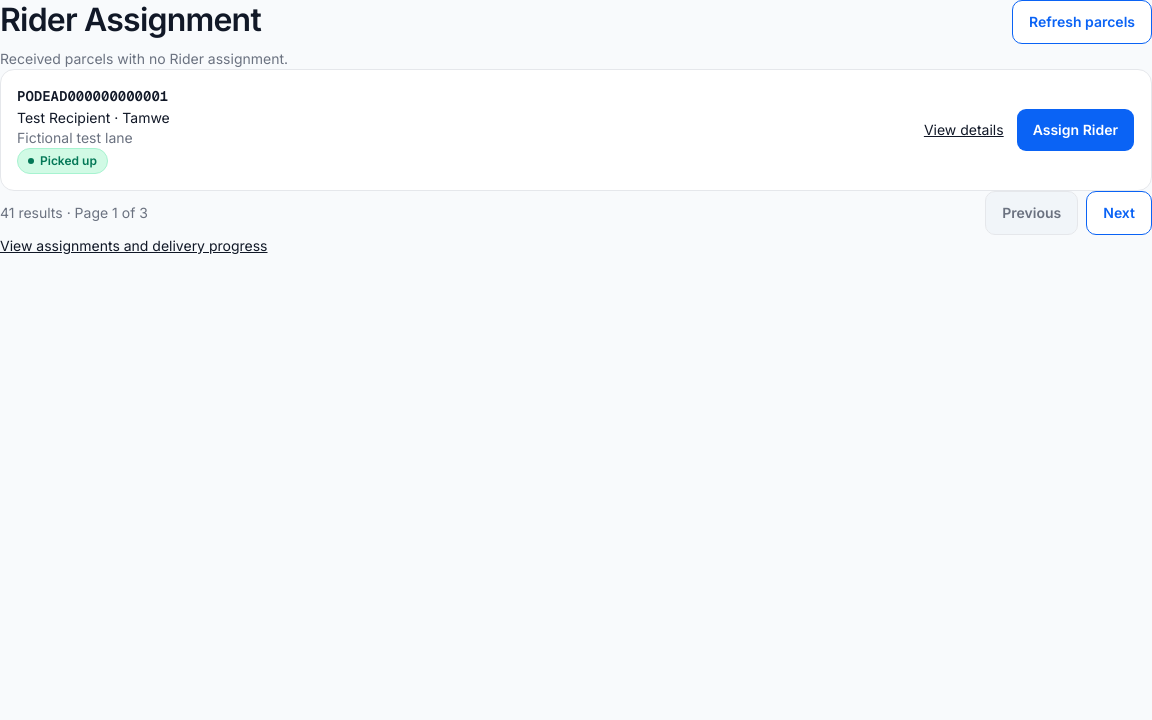
assigns only after choosing a Rider and confirming, leaving status unchanged
Click the button "Assign Rider".
click(1075, 130)  # box [1016, 108, 1135, 152]
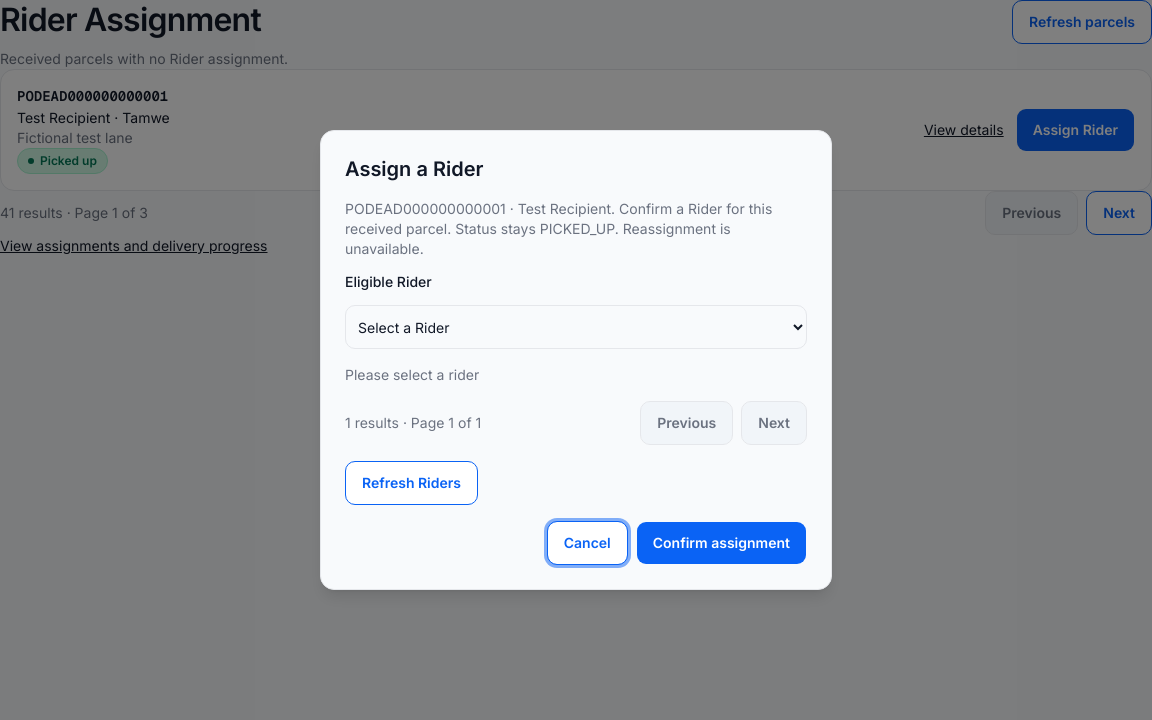
Check: the dropdown labelled "Eligible Rider" is shown
Select "Test Rider · 990e8400-e29b-41d4-a716-446655440000" in the dropdown labelled "Eligible Rider" at (576, 327), box [345, 305, 807, 349]
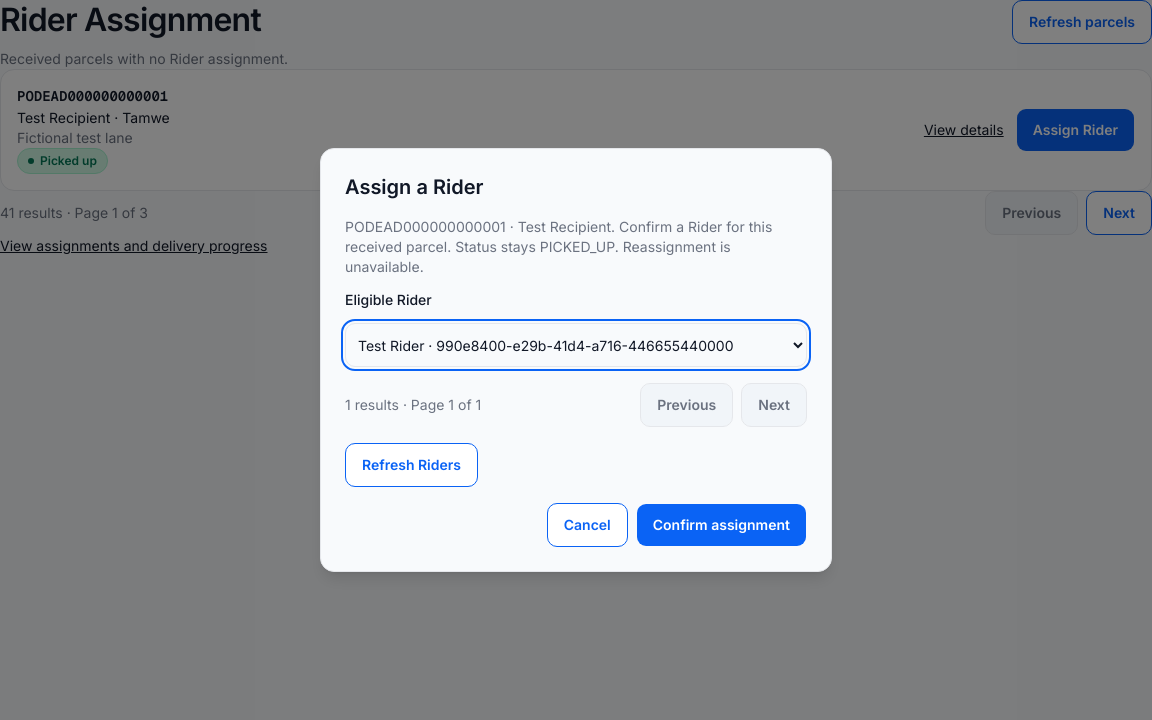
Click the button "Confirm assignment".
click(721, 525)  # box [636, 503, 807, 547]
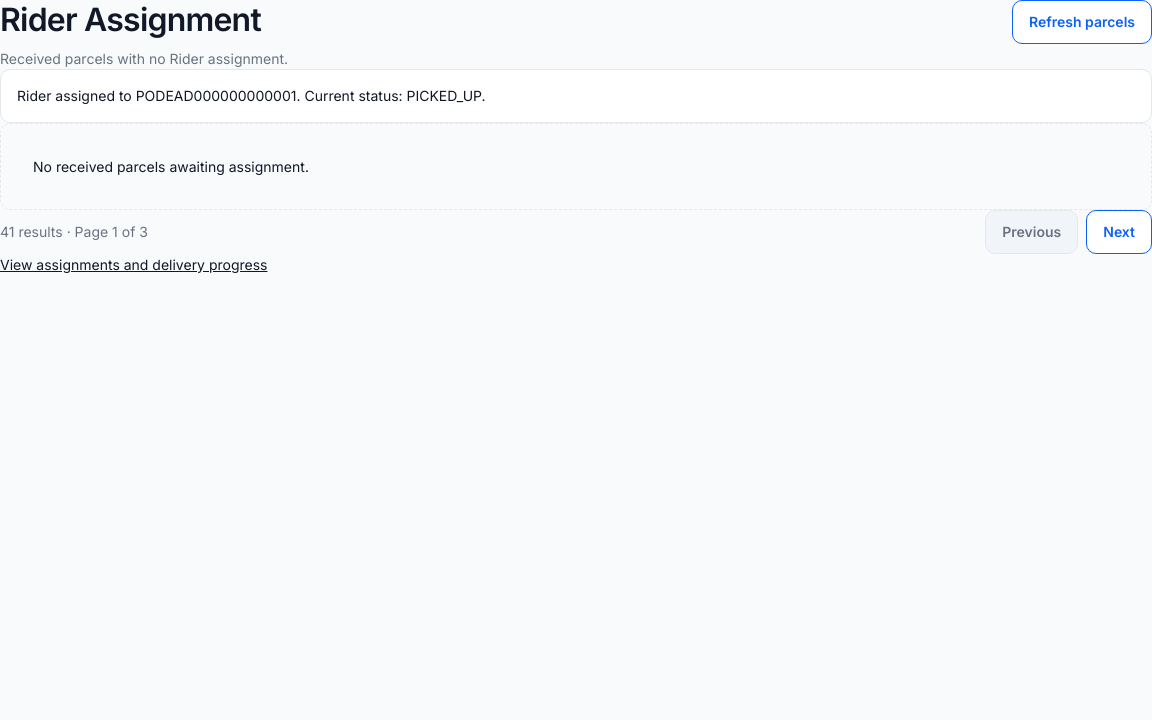
Check: the text "Rider assigned to PODEAD000000000001. Current status: PICKED_UP." is shown, box [0, 69, 1151, 123]
Check: the text "No received parcels awaiting assignment." is shown, box [0, 123, 1151, 210]
